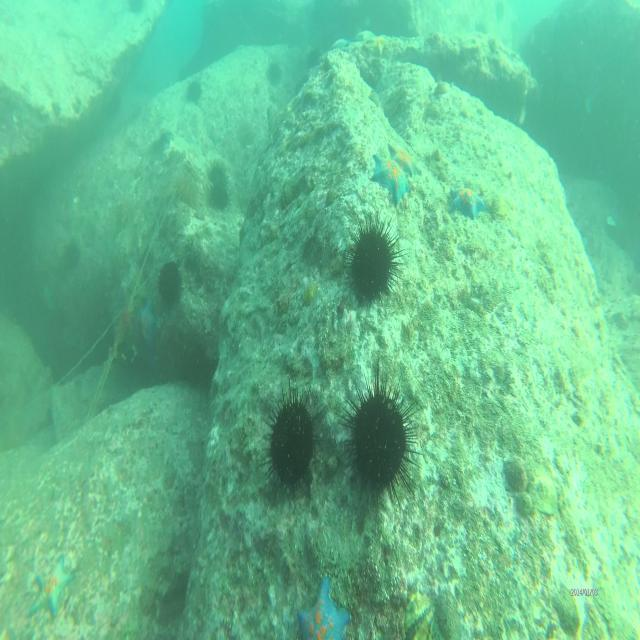echinus: (339, 367, 416, 498), (264, 384, 318, 500), (346, 215, 398, 308), (156, 262, 183, 307), (210, 181, 231, 212), (207, 157, 227, 188), (266, 59, 284, 90), (185, 80, 203, 104)
starfish: (296, 576, 351, 640), (31, 559, 74, 626), (372, 150, 411, 200), (447, 183, 485, 221), (389, 142, 421, 175), (138, 300, 158, 350), (371, 32, 389, 59)
